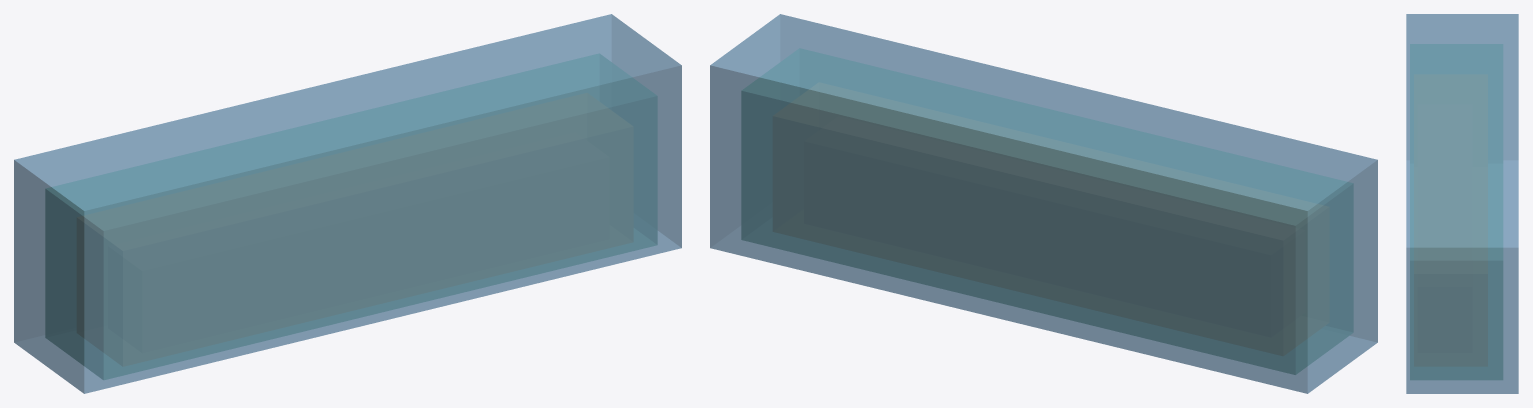
3 renders of one model, left to right at view 1: azimuth 30°, elevation 25°; view 2: azimuth 150°, elevation 25°; view 3: azimuth 270°, elevation 25°, orthographic. The views are drawn at different scales.
Parts seen in each view (by area): view 1: Primary region, Datacenter, LRS; view 2: Primary region, Datacenter, LRS; view 3: Primary region, Datacenter, LRS.
Boxes of the visible parts, x1=… form: Primary region: x1=14, y1=14, x2=681, y2=393; Datacenter: x1=45, y1=53, x2=657, y2=379; LRS: x1=77, y1=93, x2=632, y2=365; Primary region: x1=710, y1=14, x2=1377, y2=393; Datacenter: x1=741, y1=48, x2=1353, y2=374; LRS: x1=773, y1=83, x2=1328, y2=355; Primary region: x1=1406, y1=14, x2=1518, y2=393; Datacenter: x1=1410, y1=44, x2=1502, y2=379; LRS: x1=1414, y1=75, x2=1487, y2=365.
Size of the model in its own units: 11.56 by 3.38 by 2.35.
